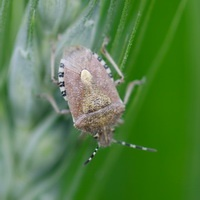insect: (58, 47, 124, 146)
